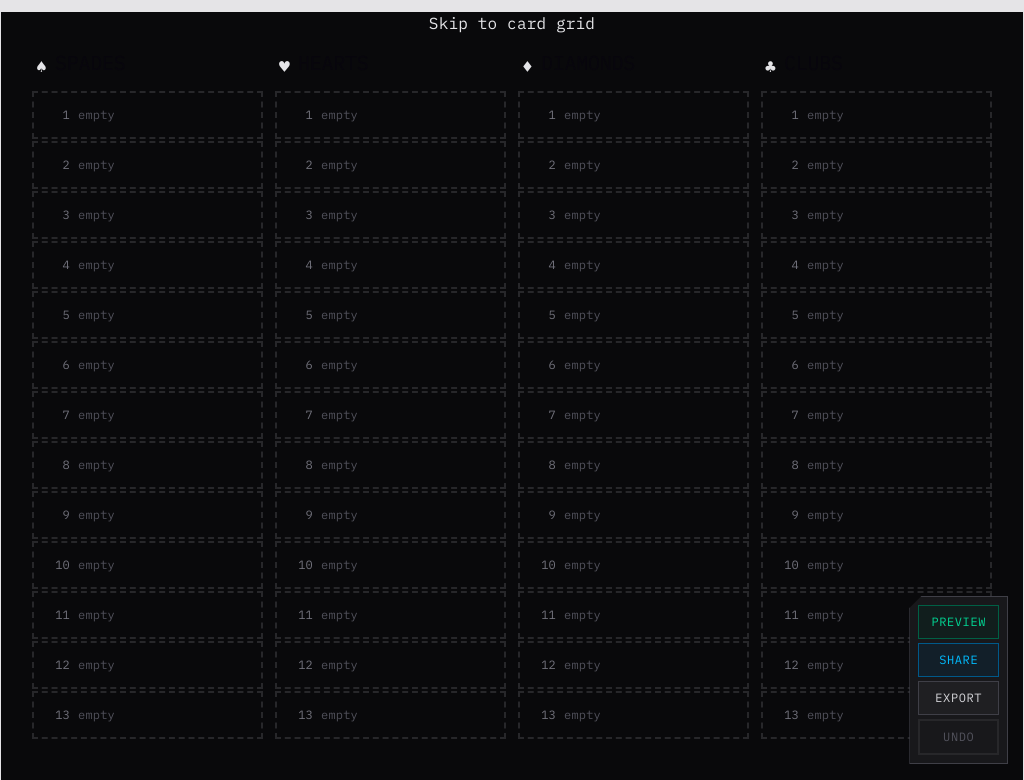
Test: Workbench › Share button opens a dropdown with .intc and .md options
Click the button "Share" at coordinates (959, 660), box [918,643,999,677]
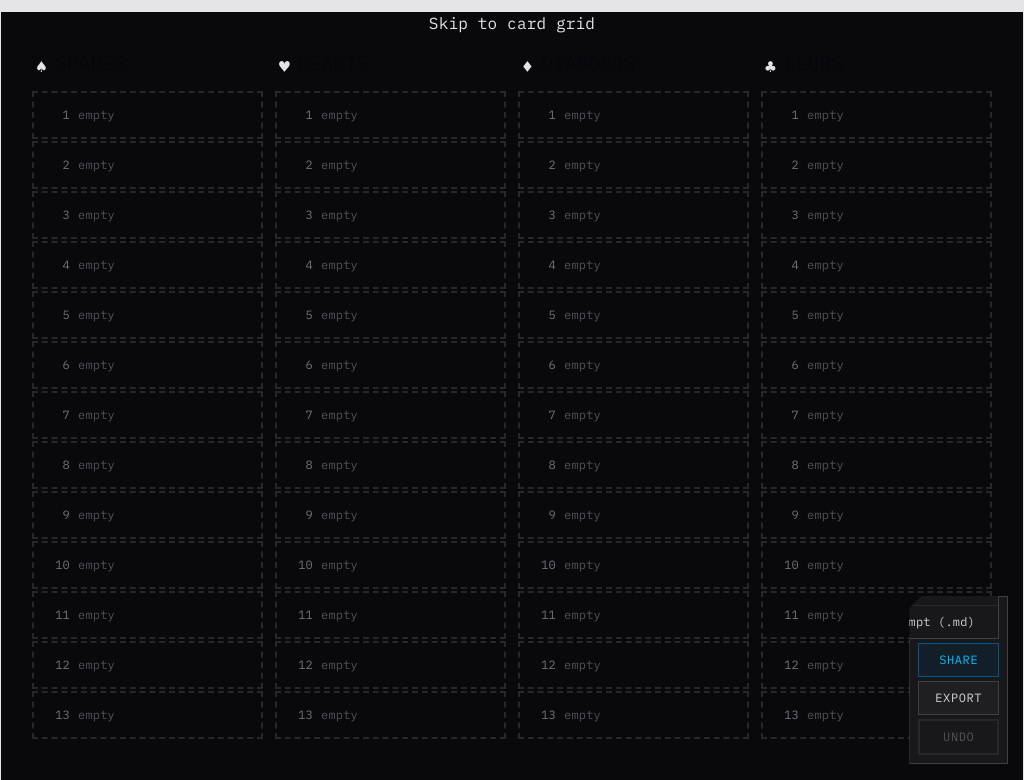
Result: the button "Share for Remix (.intc)" is shown at [808,557,998,606]
Result: the button "Share as Prompt (.md)" is shown at [808,606,998,638]
